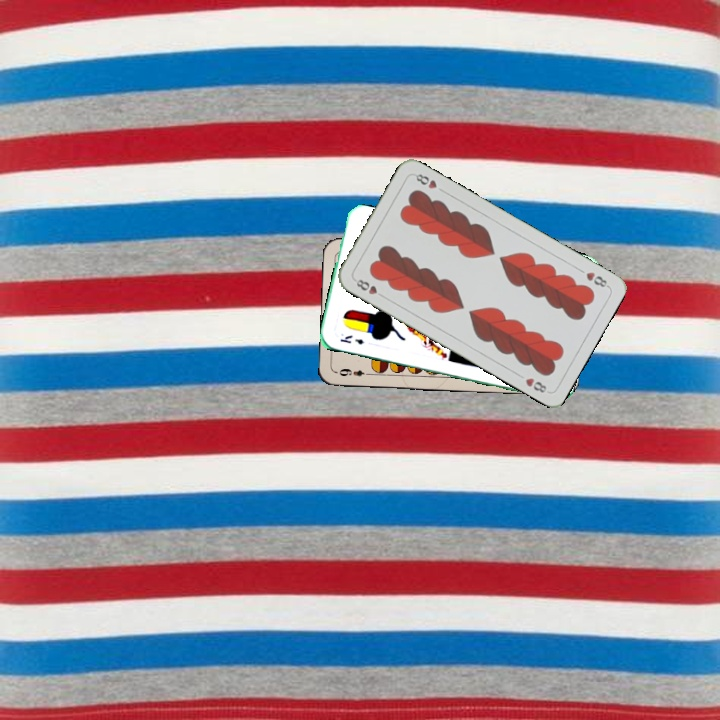E9: (335, 365, 374, 379)
EK: (336, 331, 367, 347)
H8: (350, 275, 387, 300), (582, 268, 611, 290)
